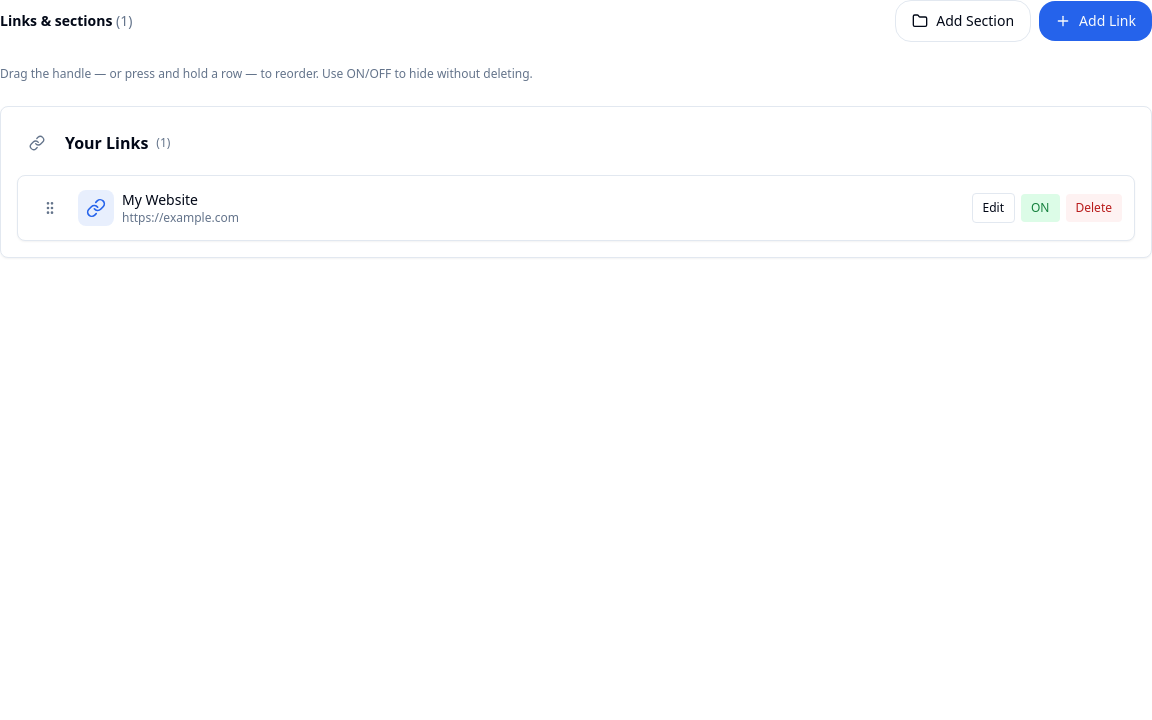
Test: LinksManager add/edit modal › blocks submission with a validation error and keeps the dialog open
This screenshot has width=1152, height=720.
Click the button "Add Link".
click(1096, 21)  # box [1039, 1, 1151, 41]
(page scrolled)
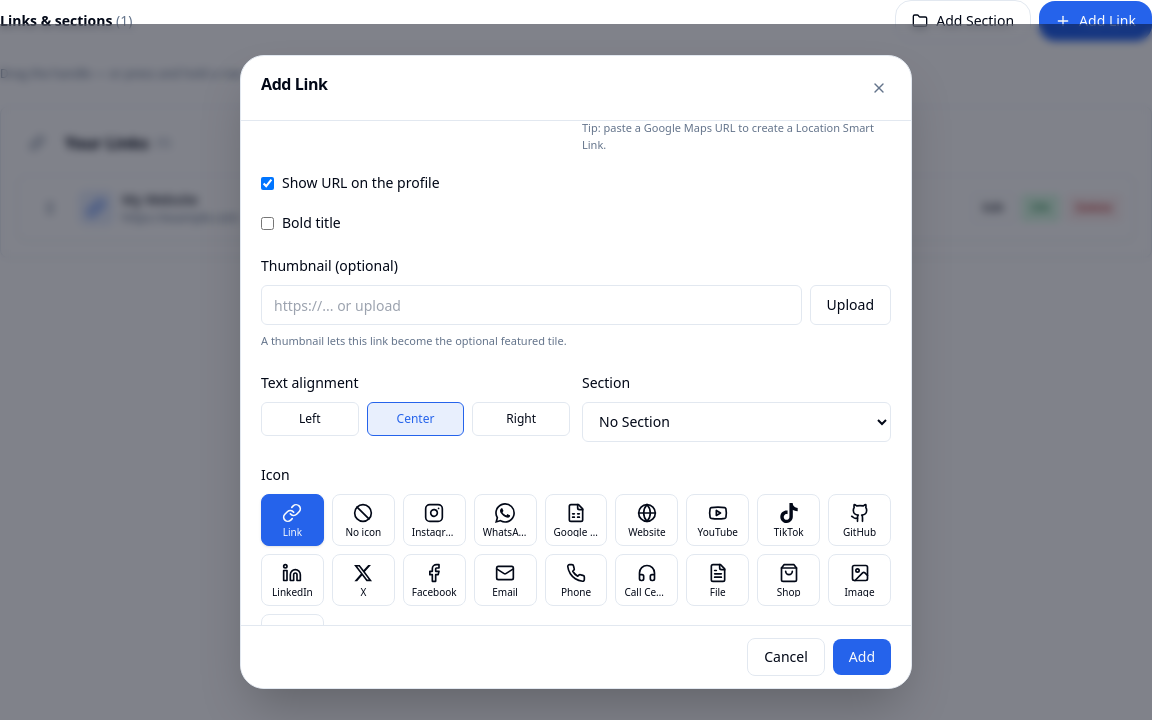
Submit the form, box [261, 56, 891, 691]
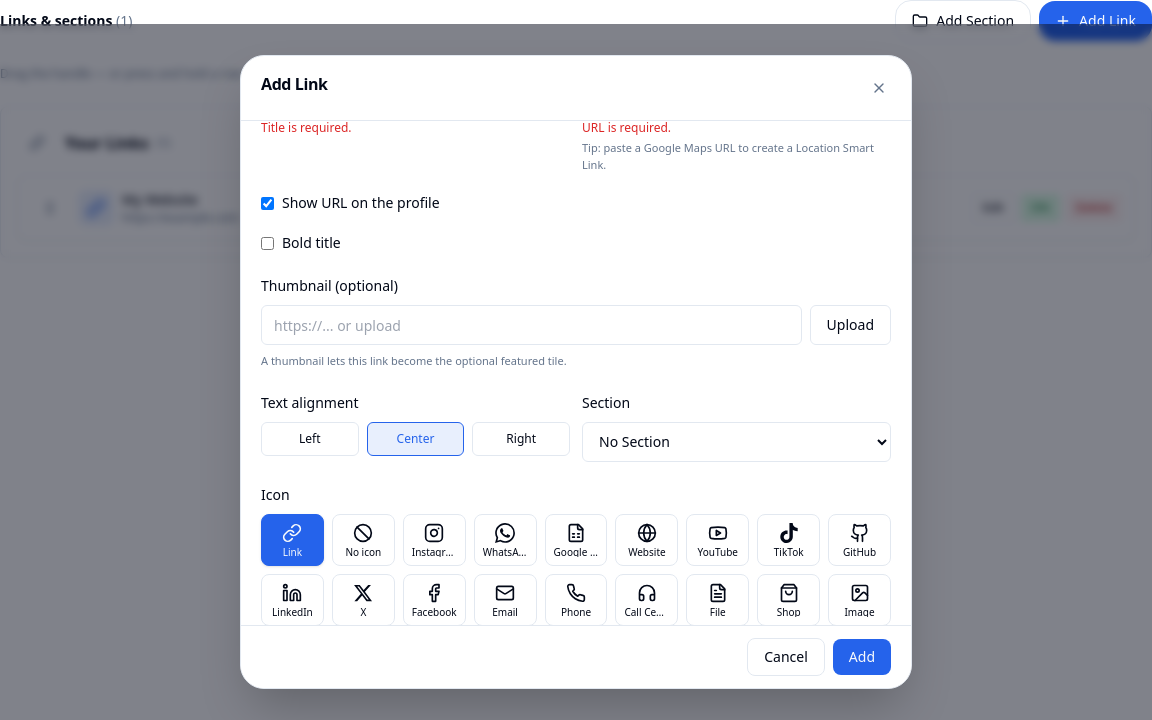
Check: the dialog is shown, box [240, 55, 912, 689]
Check: the text "Title is required." is shown, box [261, 121, 352, 136]
